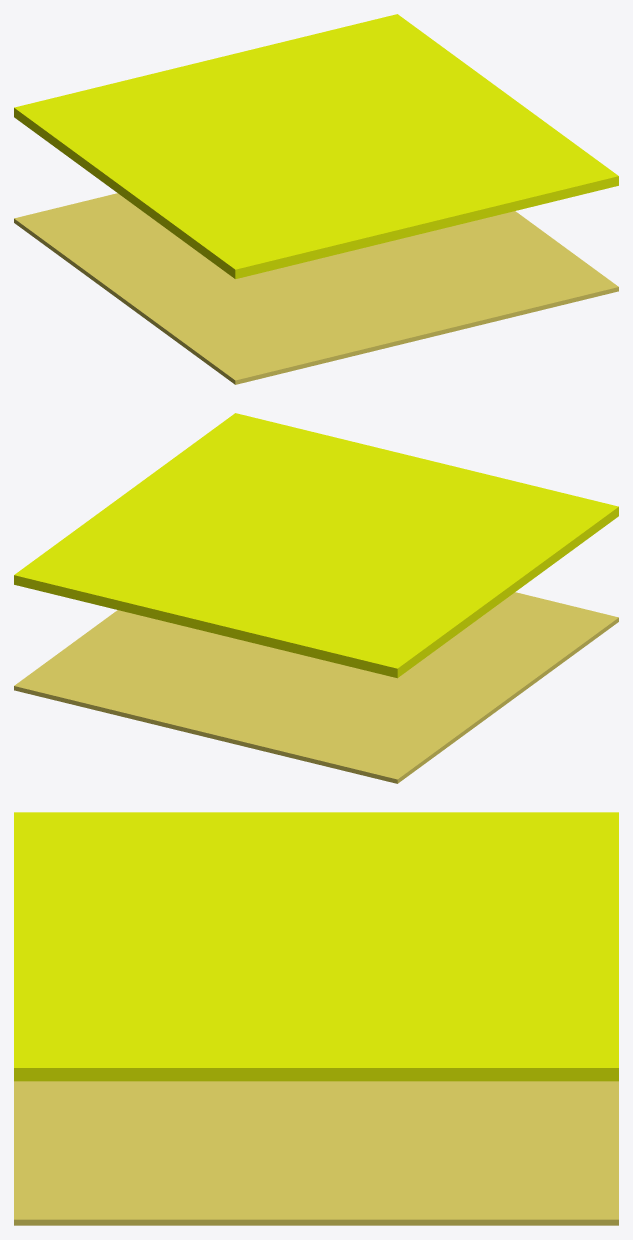
File: WoodNConcreteFloorBlock.fbx
3 views of the same model, one above another, from view 1: azimuth 30°, elevation 25°; view 2: azimuth 150°, elevation 25°; view 3: azimuth 270°, elevation 25° (orthographic). The views are drawn at different scales.
Visible parts, largest first — view 1: ceilingConcrete01.020, ceilingConcrete01.023, ceilingConcrete01.022, ceilingConcrete01.024, ceilingConcrete01.021, Floor01_Wood01.020, ceilingConcrete01.010, ceilingConcrete01, ceilingConcrete01.005, ceilingConcrete01.015, Floor01_Wood01.023, Floor01_Wood01.021 (+32 smaller); view 2: ceilingConcrete01, ceilingConcrete01.003, ceilingConcrete01.002, ceilingConcrete01.004, ceilingConcrete01.001, Floor01_Wood01, ceilingConcrete01.010, ceilingConcrete01.015, ceilingConcrete01.020, ceilingConcrete01.005, Floor01_Wood01.003, Floor01_Wood01.001 (+32 smaller); view 3: ceilingConcrete01.004, ceilingConcrete01.009, ceilingConcrete01.014, ceilingConcrete01.019, ceilingConcrete01.024, Floor01_Wood01.004, Floor01_Wood01.009, Floor01_Wood01.014, Floor01_Wood01.019, Floor01_Wood01.024, ceilingConcrete01, ceilingConcrete01.001 (+28 smaller).
Part boxes in pixels (x1=…): ceilingConcrete01.020: x1=191, y1=218, x2=311, y2=279; ceilingConcrete01.023: x1=421, y1=162, x2=542, y2=222; ceilingConcrete01.022: x1=345, y1=181, x2=465, y2=241; ceilingConcrete01.024: x1=498, y1=143, x2=618, y2=204; ceilingConcrete01.021: x1=268, y1=200, x2=388, y2=260; Floor01_Wood01.020: x1=191, y1=329, x2=311, y2=384; ceilingConcrete01.010: x1=102, y1=154, x2=223, y2=214; ceilingConcrete01: x1=14, y1=89, x2=134, y2=149; ceilingConcrete01.005: x1=58, y1=121, x2=178, y2=181; ceilingConcrete01.015: x1=147, y1=186, x2=267, y2=246; Floor01_Wood01.023: x1=422, y1=273, x2=542, y2=328; Floor01_Wood01.021: x1=268, y1=310, x2=388, y2=365; ceilingConcrete01: x1=321, y1=617, x2=441, y2=678; ceilingConcrete01.003: x1=90, y1=561, x2=211, y2=621; ceilingConcrete01.002: x1=167, y1=580, x2=287, y2=640; ceilingConcrete01.004: x1=14, y1=542, x2=134, y2=603; ceilingConcrete01.001: x1=244, y1=599, x2=364, y2=659; Floor01_Wood01: x1=321, y1=728, x2=441, y2=783; ceilingConcrete01.010: x1=409, y1=553, x2=530, y2=613; ceilingConcrete01.015: x1=454, y1=520, x2=574, y2=580; ceilingConcrete01.020: x1=498, y1=488, x2=618, y2=548; ceilingConcrete01.005: x1=365, y1=585, x2=485, y2=645; Floor01_Wood01.003: x1=90, y1=672, x2=210, y2=727; Floor01_Wood01.001: x1=244, y1=709, x2=364, y2=764; ceilingConcrete01.004: x1=498, y1=1017, x2=618, y2=1081; ceilingConcrete01.009: x1=377, y1=1017, x2=497, y2=1081; ceilingConcrete01.014: x1=256, y1=1017, x2=376, y2=1081; ceilingConcrete01.019: x1=135, y1=1017, x2=255, y2=1081; ceilingConcrete01.024: x1=14, y1=1017, x2=134, y2=1081; Floor01_Wood01.004: x1=498, y1=1168, x2=618, y2=1225; Floor01_Wood01.009: x1=377, y1=1168, x2=497, y2=1225; Floor01_Wood01.014: x1=256, y1=1168, x2=376, y2=1225; Floor01_Wood01.019: x1=135, y1=1168, x2=255, y2=1225; Floor01_Wood01.024: x1=14, y1=1168, x2=134, y2=1225; ceilingConcrete01: x1=498, y1=812, x2=618, y2=863; ceilingConcrete01.001: x1=498, y1=863, x2=618, y2=914.
Size of the model in its own units: 1160 by 333 by 1160.
